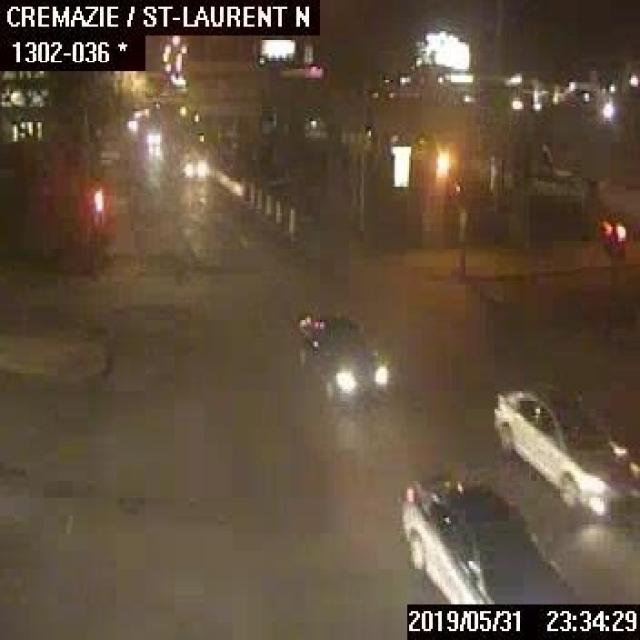construction: (285, 206, 293, 226), (274, 199, 280, 220), (264, 193, 270, 214), (255, 186, 261, 207), (250, 181, 255, 202)
vehicle: (400, 476, 571, 602), (491, 384, 638, 514), (295, 316, 389, 398)
